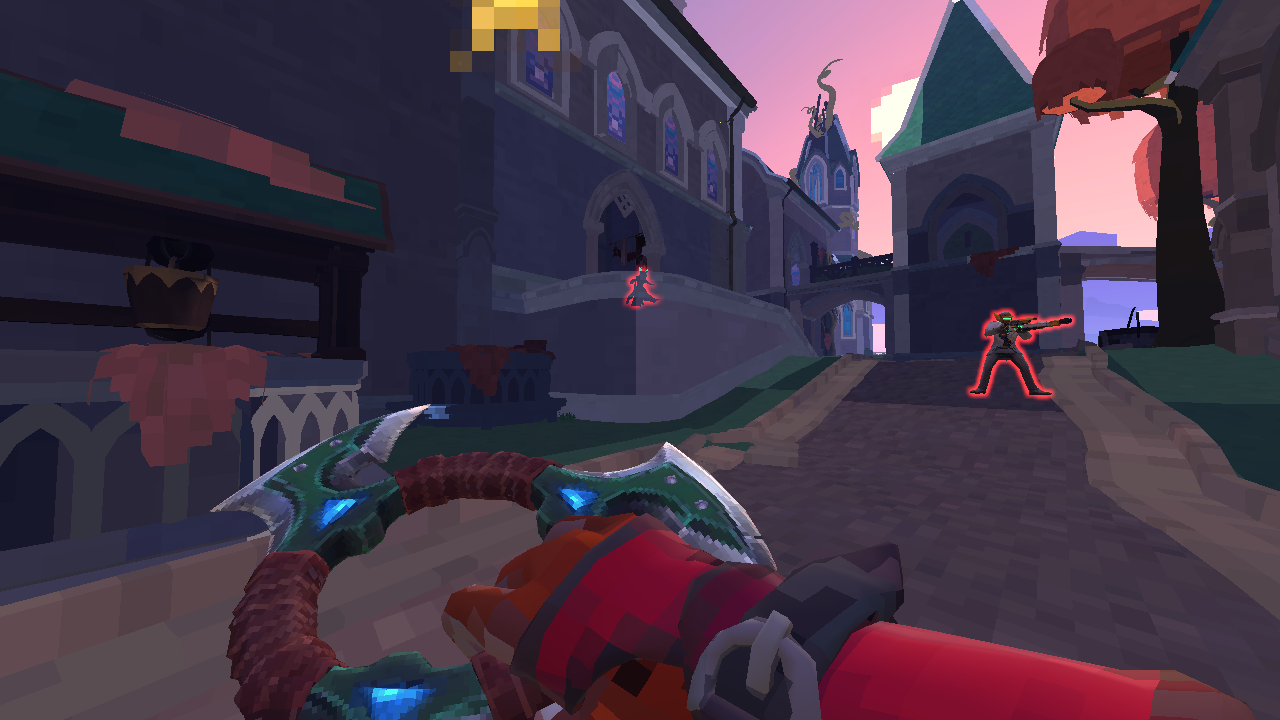model: (966, 303, 1082, 406), (628, 263, 655, 313)
